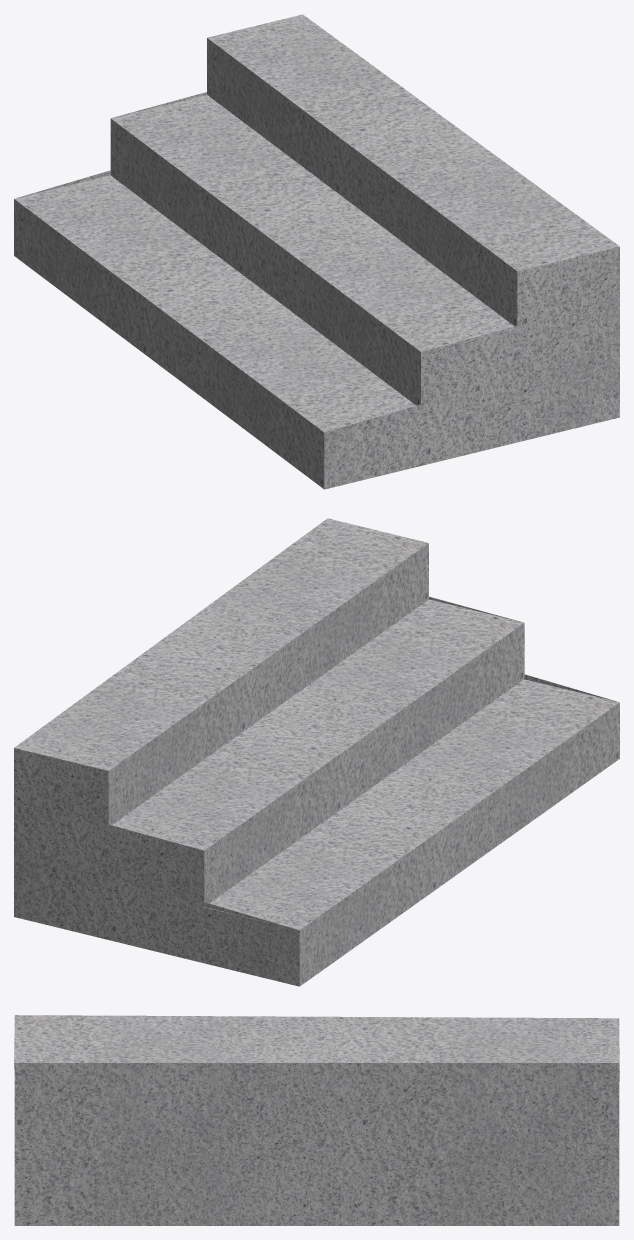
File: SM_RoyalStair_2.fbx
The picture shows the model from 3 angles, top to bottom: view 1: azimuth 30°, elevation 25°; view 2: azimuth 150°, elevation 25°; view 3: azimuth 270°, elevation 25°; orthographic projection. The views are drawn at different scales.
Parts seen in each view (by area): view 1: SM_RoyalStair_2; view 2: SM_RoyalStair_2; view 3: SM_RoyalStair_2.
Part boxes in pixels (x1,y1,x2,y2): SM_RoyalStair_2: [14, 14, 619, 489]; SM_RoyalStair_2: [14, 518, 619, 986]; SM_RoyalStair_2: [14, 1015, 619, 1225].
Bounding box in the file's own units: 129 × 241 × 71.57.
1 material, 1 textured.
